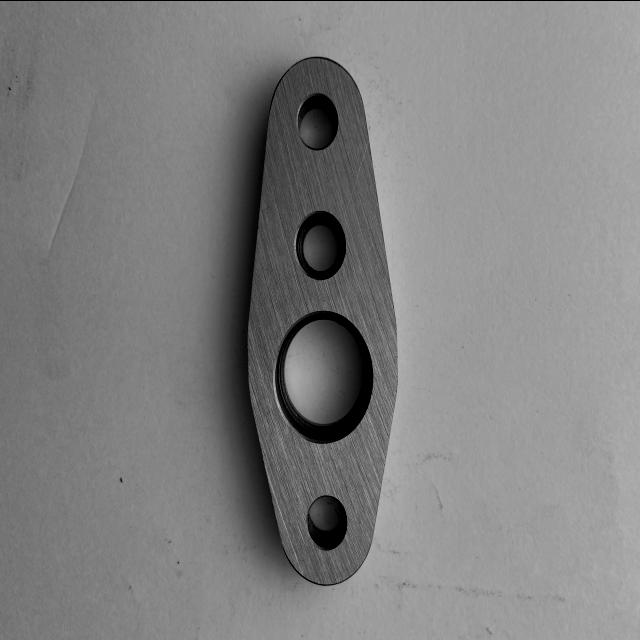lines: (342, 138, 369, 220)
